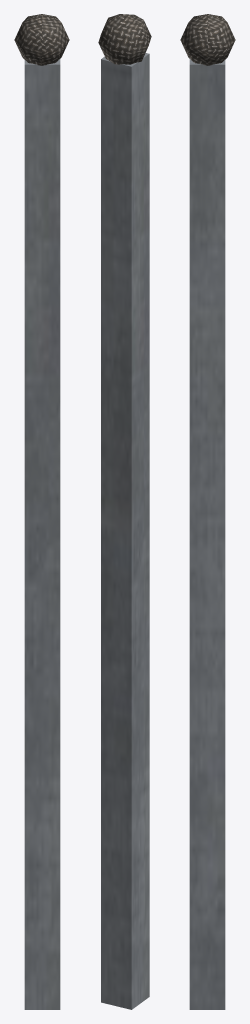
The model's file is Fence End.fbx.
3 renders of one model, left to right at view 1: azimuth 90°, elevation 25°; view 2: azimuth 150°, elevation 25°; view 3: azimuth 270°, elevation 25°, orthographic.
Parts seen in each view (by area): view 1: Object001; view 2: Object001; view 3: Object001.
Boxes of the visible parts, bbox=[...] form: Object001: bbox=[14, 14, 69, 1009]; Object001: bbox=[98, 14, 151, 1009]; Object001: bbox=[180, 14, 235, 1009].
Bounding box in the file's own units: 15.68 × 309 × 15.68.
1 material, 1 textured.
